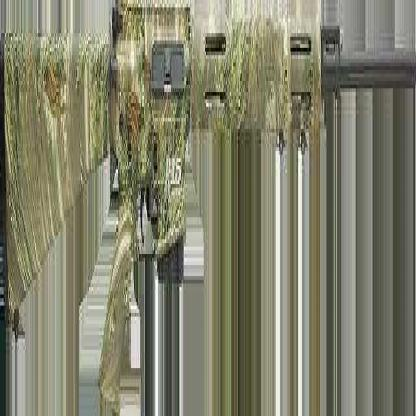Heavy Gun: (0, 0, 416, 341)
